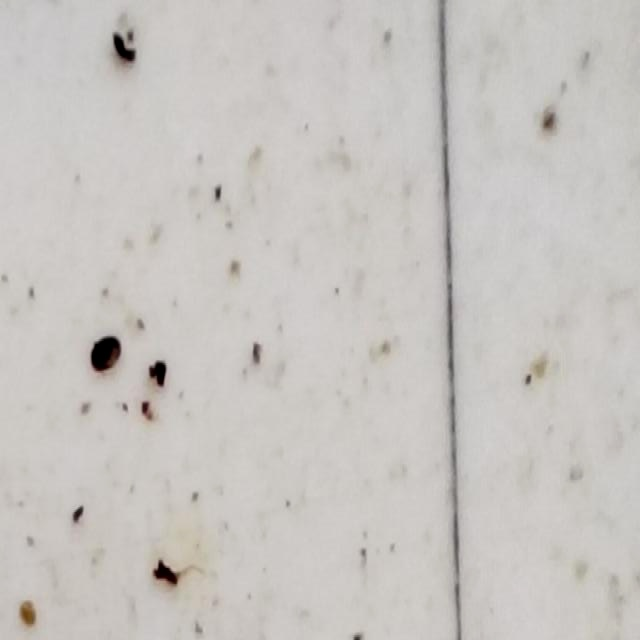varroa: (87, 333, 124, 371)
